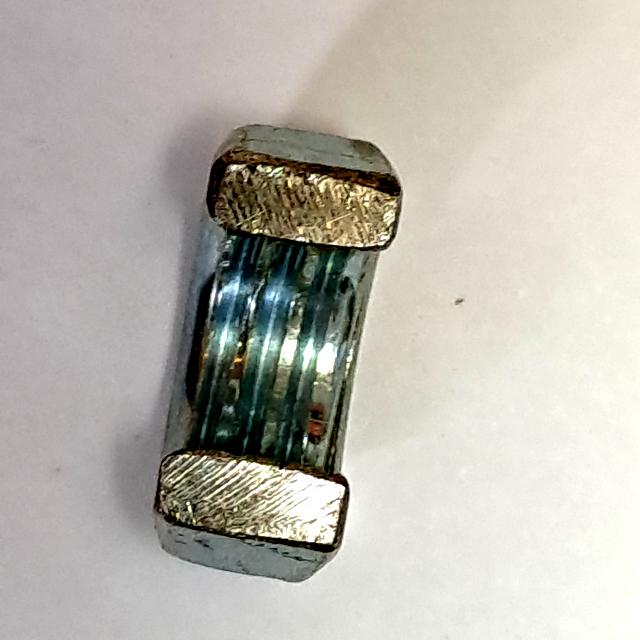Side-Fracture: (139, 106, 420, 595)
